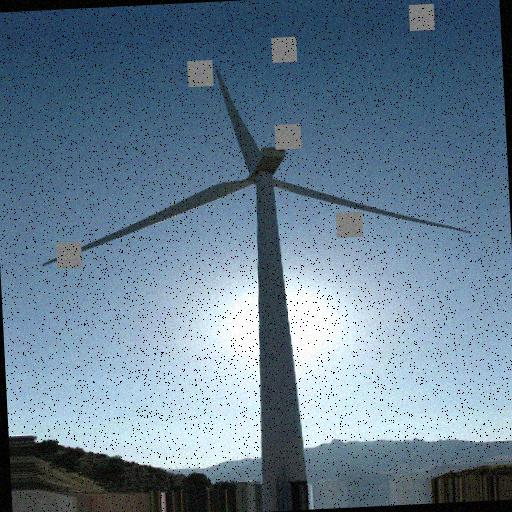wind turbine: (40, 63, 472, 465)
